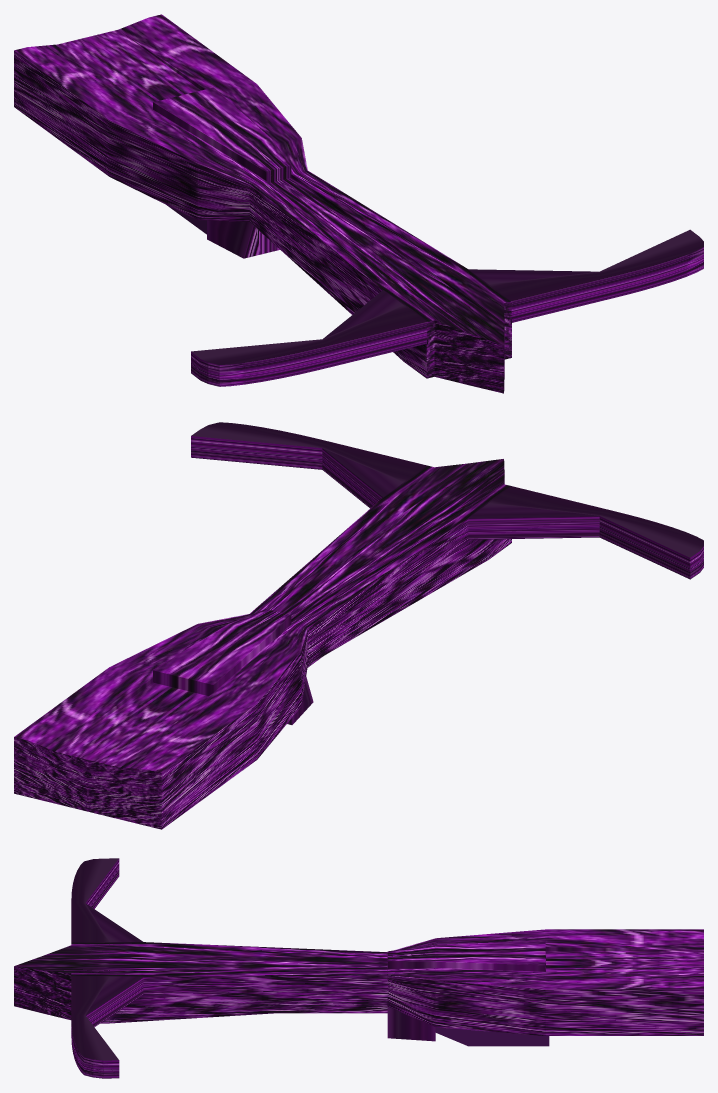
File: Ballesta Veneno2 1.fbx
The picture shows the model from 3 angles, top to bottom: view 1: azimuth 30°, elevation 25°; view 2: azimuth 150°, elevation 25°; view 3: azimuth 270°, elevation 25°; orthographic projection. The views are drawn at different scales.
Visible parts, largest first — view 1: Cubo; view 2: Cubo; view 3: Cubo.
Part boxes in pixels (<box>): Cubo: <box>14,14,703,393</box>; Cubo: <box>14,422,703,829</box>; Cubo: <box>14,858,703,1078</box>.
Size of the model in its own units: 1171 by 228 by 1690.
1 material, 1 textured.
